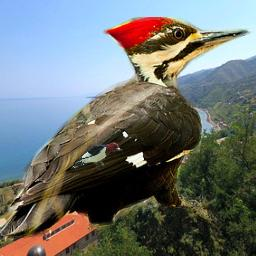Woodpecker: (1, 17, 255, 239), (70, 140, 124, 171)
